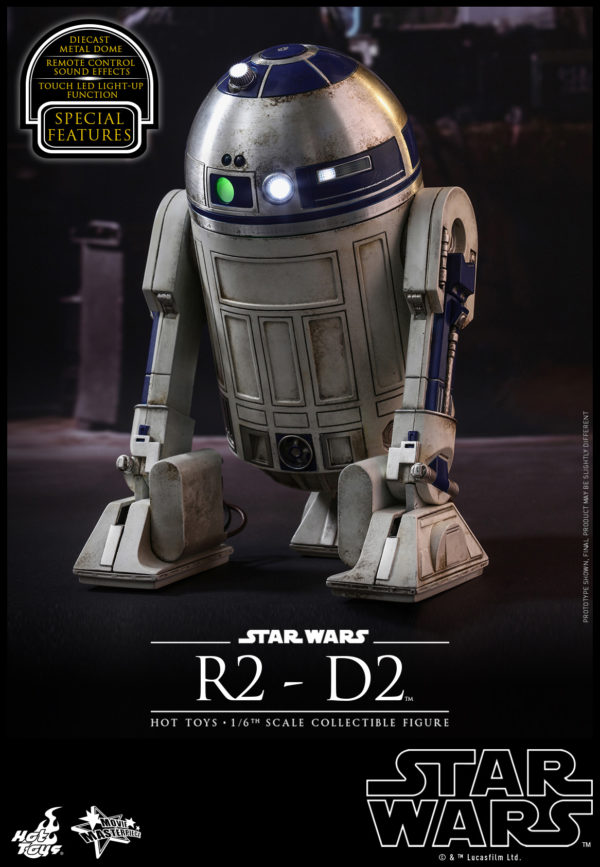r2d2: (73, 45, 490, 605)
